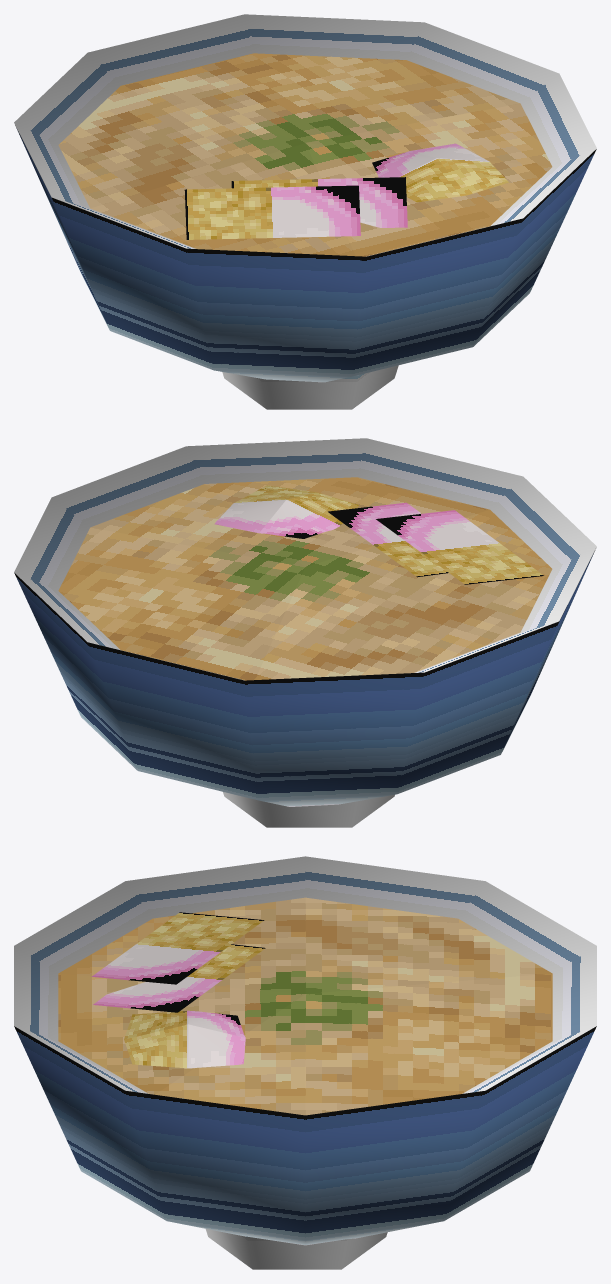
3 views of the same model, one above another, from view 1: azimuth 30°, elevation 25°; view 2: azimuth 150°, elevation 25°; view 3: azimuth 270°, elevation 25° (orthographic). The views are drawn at different scales.
Parts seen in each view (by area): view 1: udon; view 2: udon; view 3: udon.
Boxes of the visible parts, box(x1,y1,x2,y2) form: udon: box(14, 14, 596, 409); udon: box(14, 438, 596, 827); udon: box(14, 856, 596, 1269).
Size of the model in its own units: 0.7769 by 0.3669 by 0.7388.
Materials: 3 (3 with a texture image).
